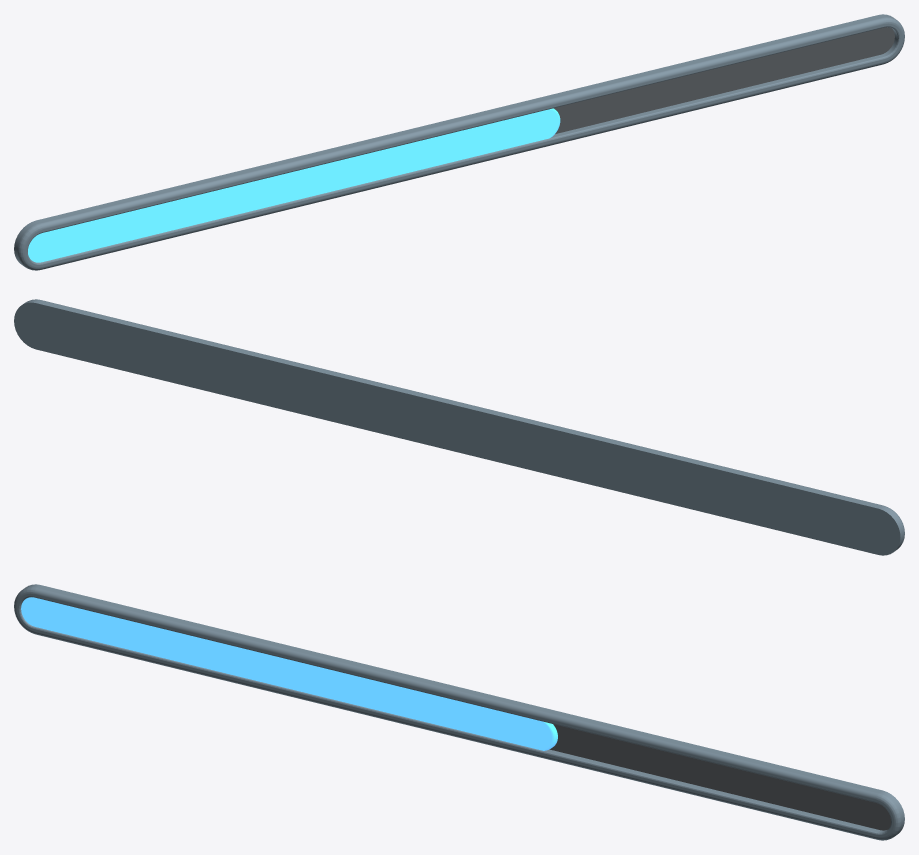
Rendered from progress-bar-4da04c.glb.
3 renders of one model, top to bottom at view 1: azimuth 30°, elevation 25°; view 2: azimuth 150°, elevation 25°; view 3: azimuth 330°, elevation 25°, orthographic.
Parts seen in each view (by area): view 1: track, fill; view 2: track; view 3: track, fill.
Part boxes in pixels (x1,y1,x2,y2): track: [14, 14, 904, 270]; fill: [28, 110, 546, 262]; track: [14, 299, 904, 555]; track: [14, 584, 904, 840]; fill: [21, 597, 540, 749].
Bounding box in the file's own units: 0.24 × 0.012 × 0.003.
